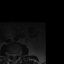CCS_stenosis: (13, 52, 15, 59)
LFS_normal: (16, 51, 18, 57)
LLS_normal: (15, 52, 16, 58)
RFS_normal: (9, 52, 11, 57)
RLS_normal: (11, 52, 13, 58)
